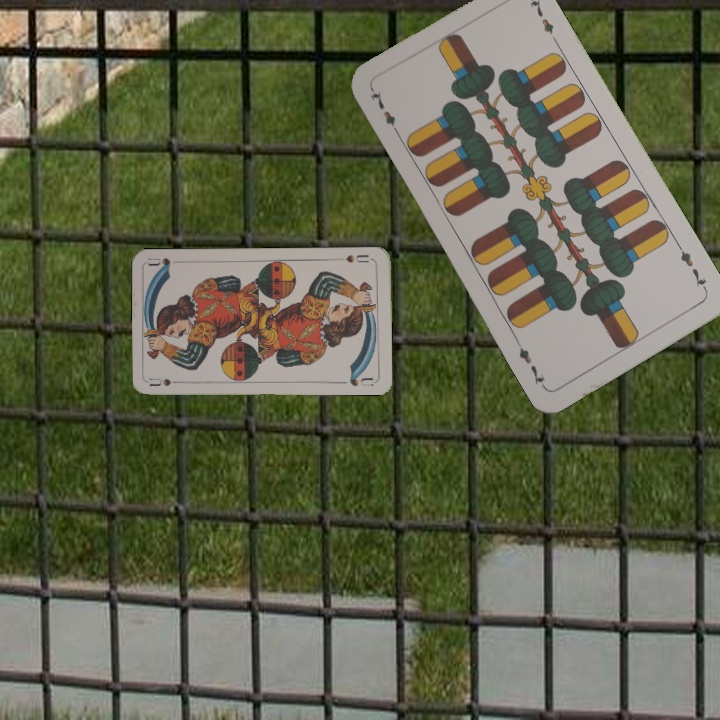E7: (366, 86, 403, 140), (673, 241, 710, 294)
SU: (334, 250, 375, 265), (147, 374, 187, 389)
